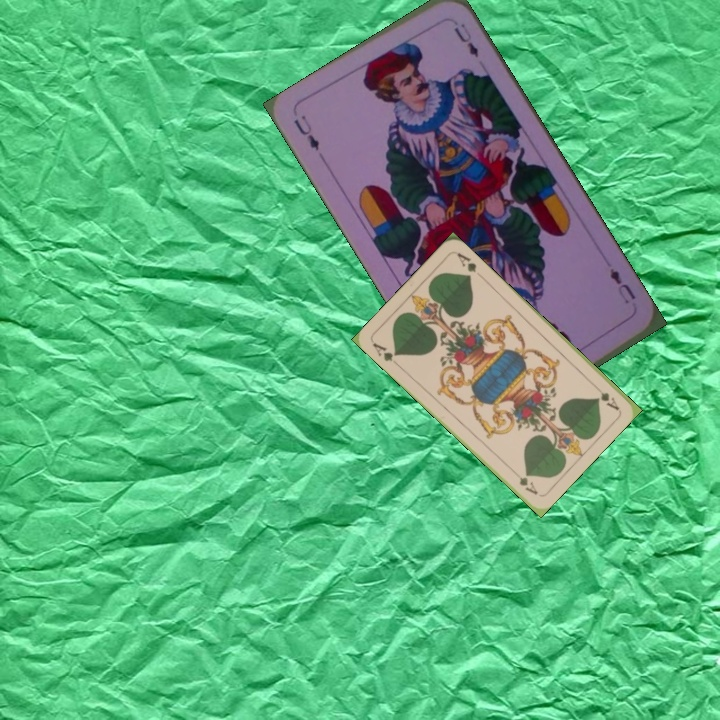EU: (289, 110, 322, 154), (605, 264, 638, 307)
GA: (589, 380, 621, 412), (368, 338, 400, 364)
